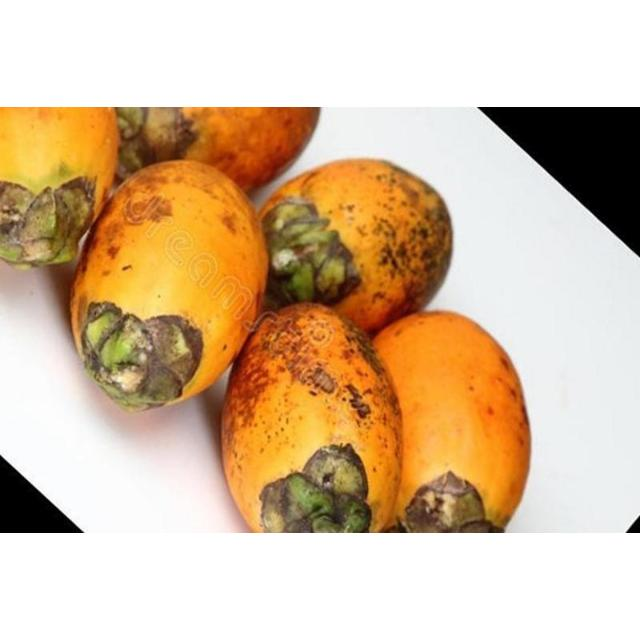good: (74, 162, 266, 412), (222, 304, 398, 528), (258, 158, 452, 336), (372, 312, 528, 528), (117, 108, 321, 194), (3, 108, 113, 266), (68, 264, 92, 350)
